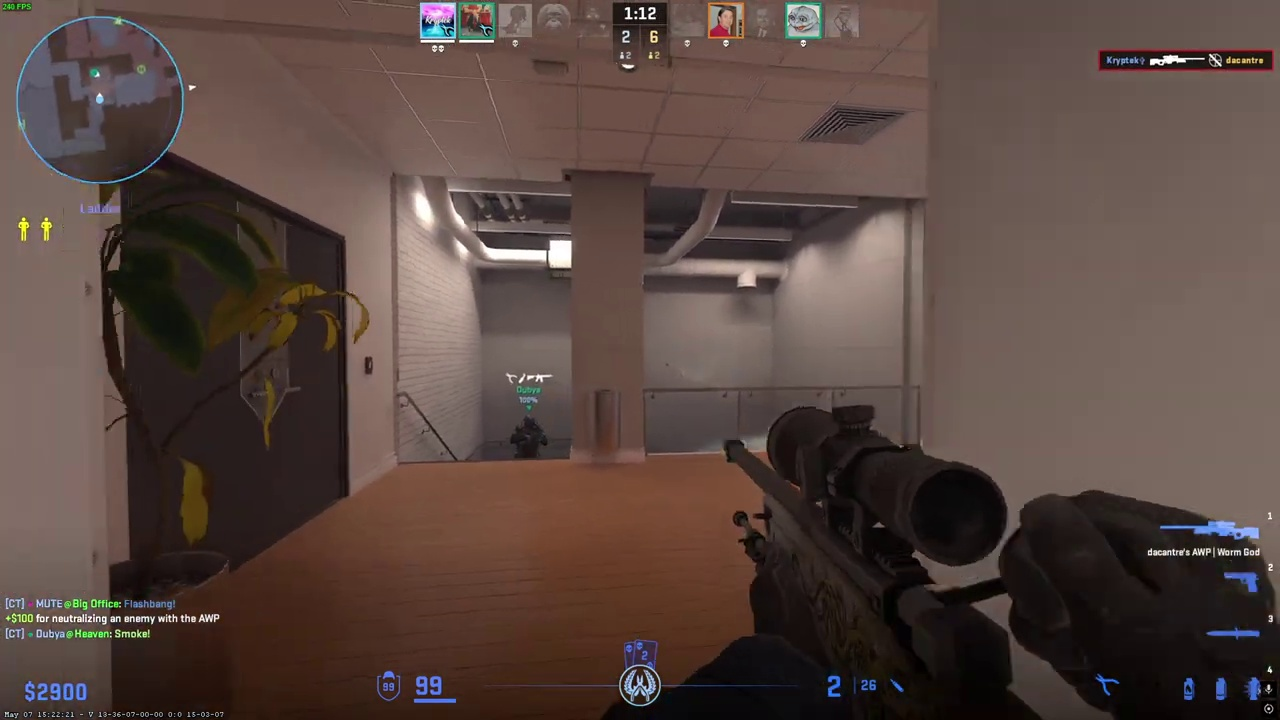CT: (511, 415, 545, 460)
